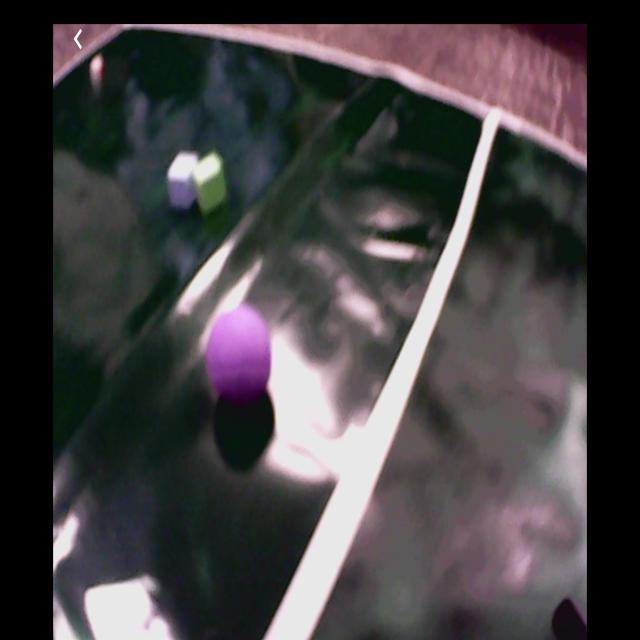ball: (209, 304, 271, 404)
